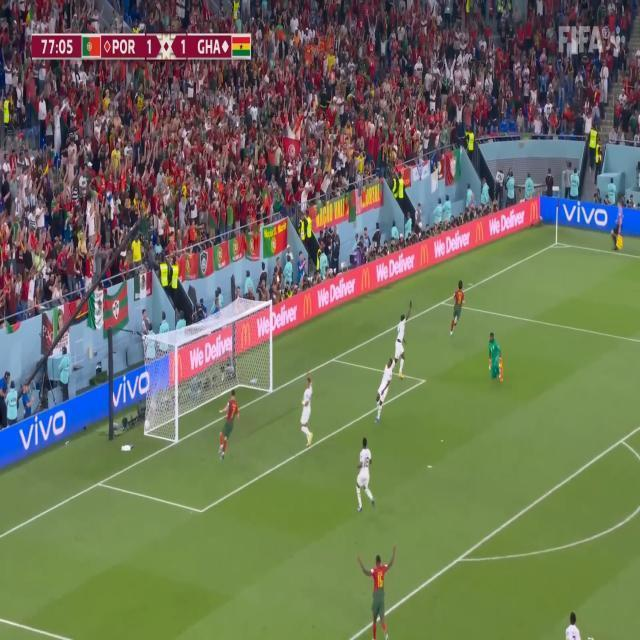player: (355, 545, 402, 640), (354, 435, 379, 515), (216, 387, 239, 469), (375, 356, 395, 425), (300, 368, 316, 451), (450, 276, 468, 347), (485, 328, 505, 383), (397, 307, 409, 381), (565, 608, 586, 640)
